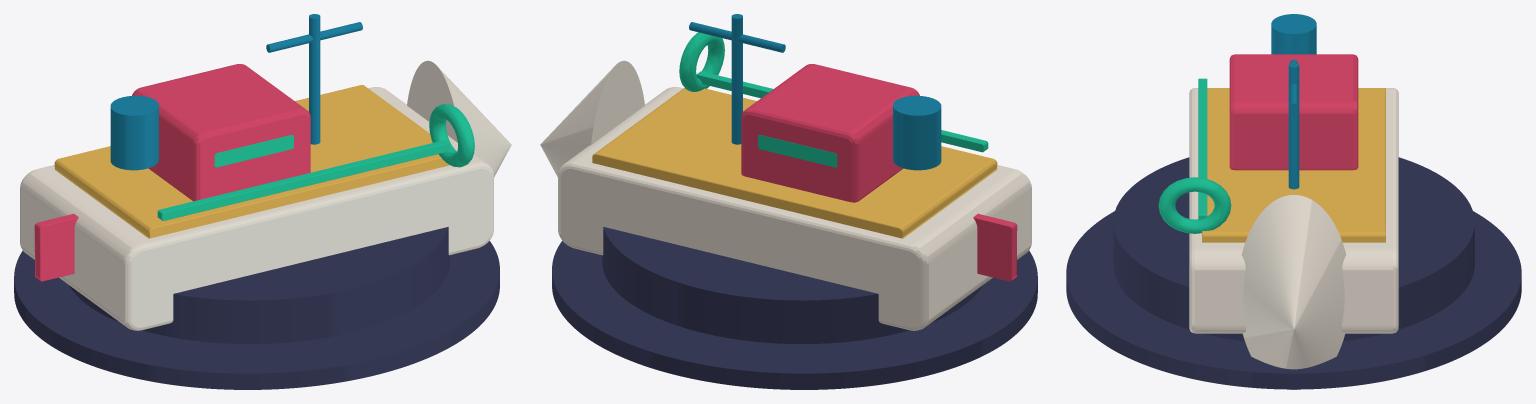
File: 0448_机械图鉴_滑板.glb
3 renders of one model, left to right at view 1: azimuth 30°, elevation 25°; view 2: azimuth 150°, elevation 25°; view 3: azimuth 270°, elevation 25°, orthographic. The views are drawn at different scales.
Parts seen in each view (by area): view 1: card_0448; view 2: card_0448; view 3: card_0448.
Boxes of the visible parts, x1=… form: card_0448: x1=14, y1=14, x2=511, y2=389; card_0448: x1=540, y1=14, x2=1037, y2=389; card_0448: x1=1066, y1=14, x2=1521, y2=389.
Size of the model in its own units: 1.79 by 1 by 1.54.
